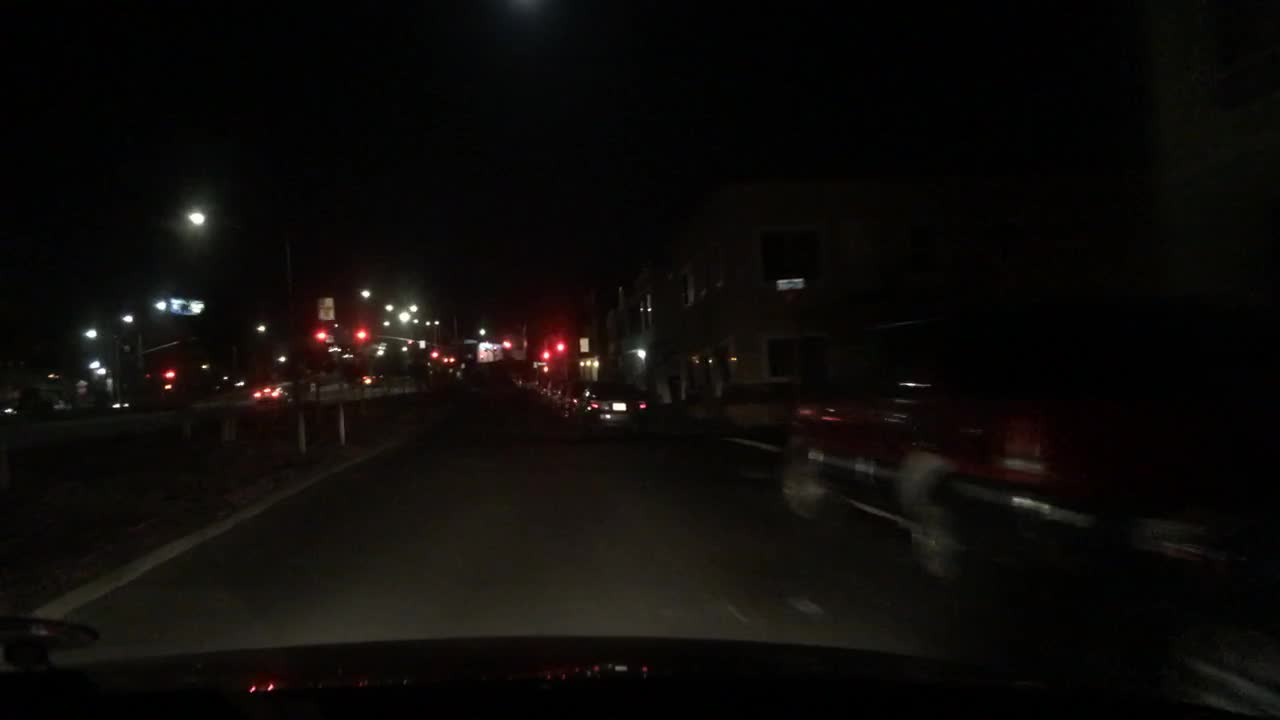car: (737, 345, 1113, 588), (572, 364, 648, 426), (552, 382, 592, 415), (541, 378, 570, 404), (512, 370, 543, 394), (251, 384, 286, 404), (355, 371, 385, 385)
traffic light: (311, 325, 326, 346), (353, 323, 365, 344), (163, 364, 176, 382), (554, 338, 565, 358), (429, 346, 441, 361)
traffic sign: (316, 295, 336, 323), (578, 335, 590, 352), (462, 336, 479, 344)
